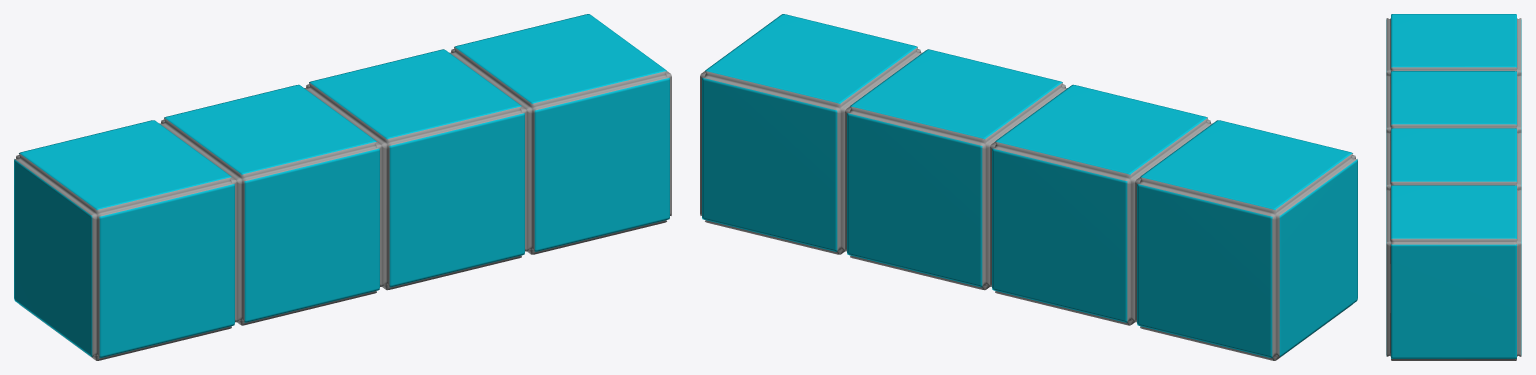
File: cyanTetrinimous.fbx
3 renders of one model, left to right at view 1: azimuth 30°, elevation 25°; view 2: azimuth 150°, elevation 25°; view 3: azimuth 270°, elevation 25°, orthographic. The views are drawn at different scales.
Visible parts, largest first — view 1: cyanTetrinimous; view 2: cyanTetrinimous; view 3: cyanTetrinimous.
Boxes of the visible parts, left/top/right/bottom form: cyanTetrinimous: left=14, top=14, right=671, bottom=360; cyanTetrinimous: left=700, top=14, right=1357, bottom=360; cyanTetrinimous: left=1386, top=14, right=1521, bottom=360.
Bounding box in the file's own units: 4.04 × 1.01 × 1.01.
